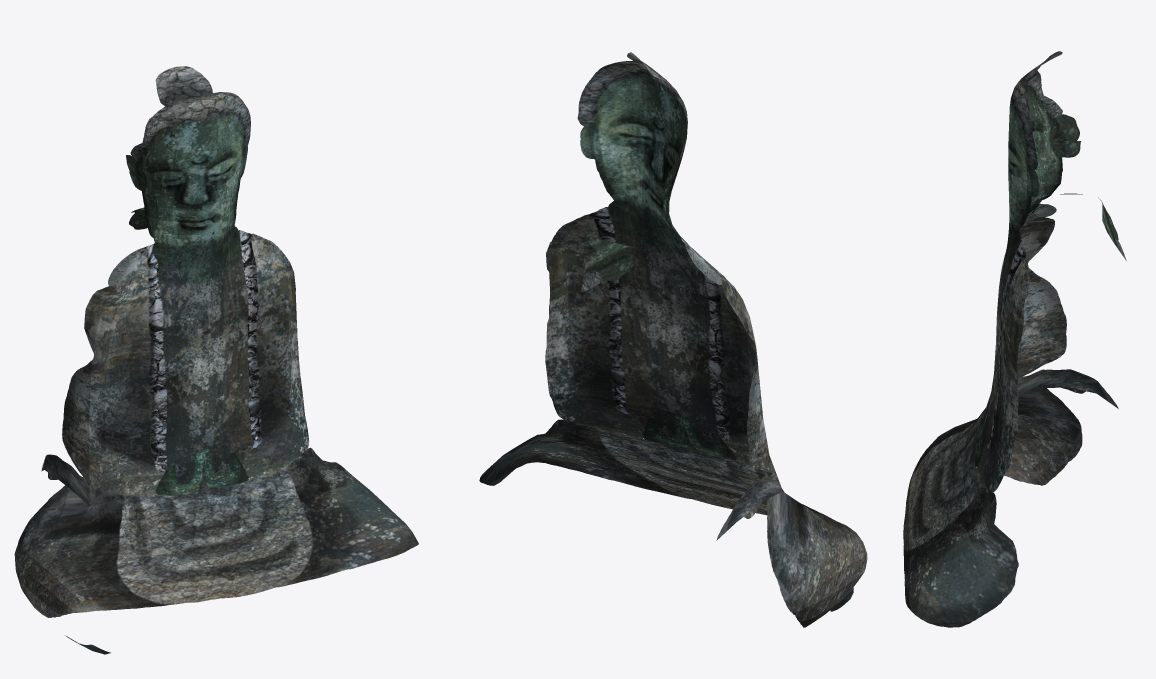
Rendered from monje.fbx.
3 views of the same model, side by side, from view 1: azimuth 30°, elevation 25°; view 2: azimuth 150°, elevation 25°; view 3: azimuth 270°, elevation 25° (orthographic). The views are drawn at different scales.
Visible parts, largest first — view 1: Cube; view 2: Cube; view 3: Cube.
Part boxes in pixels (x1,y1,x2,y2): Cube: [14, 66, 418, 654]; Cube: [479, 52, 867, 627]; Cube: [903, 51, 1126, 627].
Size of the model in its own units: 454 by 734 by 274.
